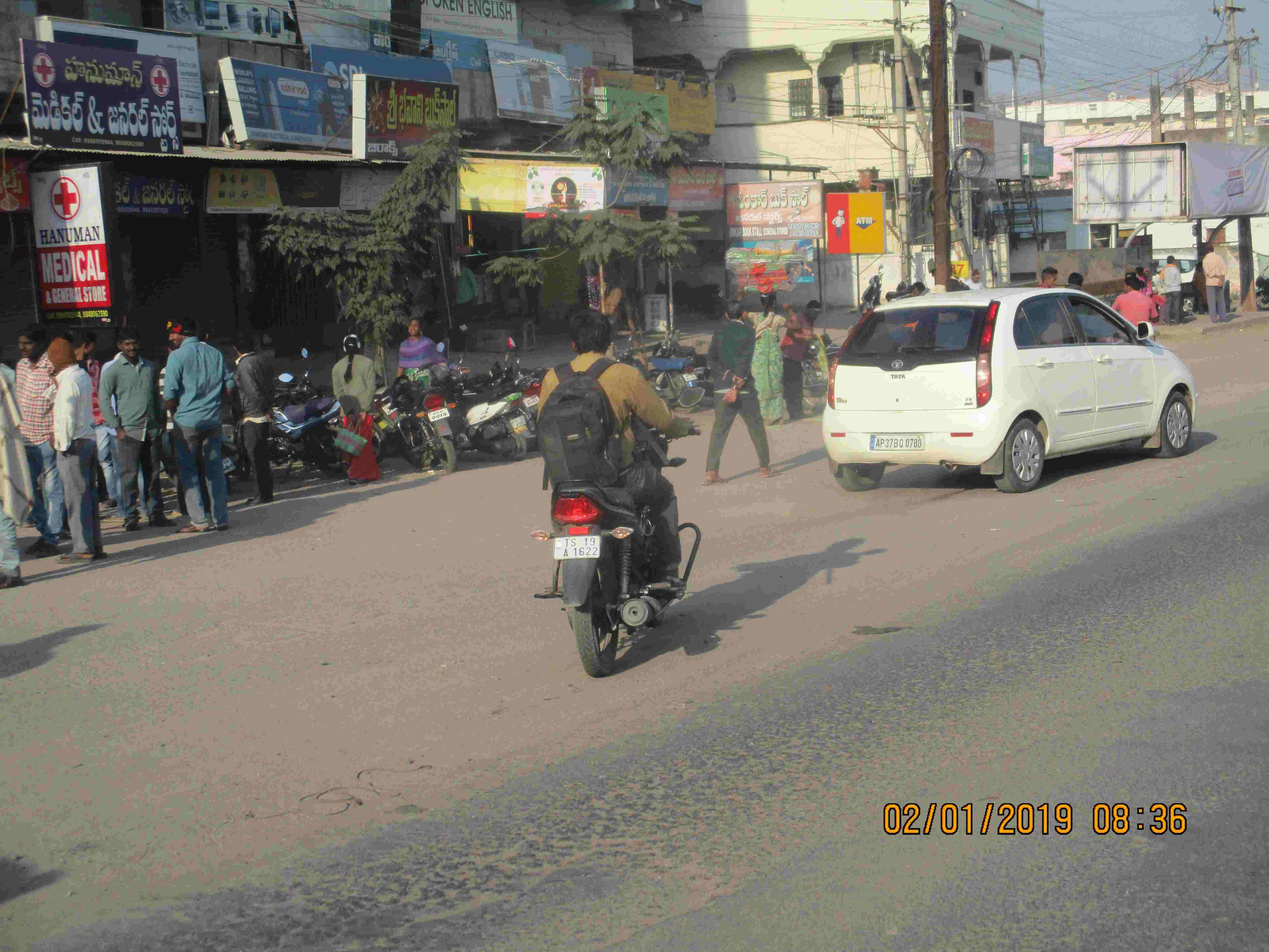plate: (550, 532, 608, 566)
